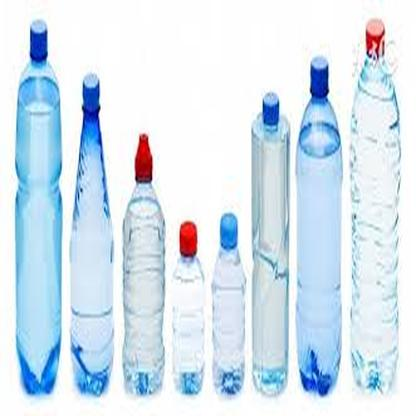plastic bottle: (352, 19, 402, 394), (14, 19, 59, 394), (297, 56, 342, 396), (71, 72, 114, 397), (251, 92, 289, 396), (122, 132, 165, 397), (212, 213, 246, 395), (171, 221, 206, 396)
